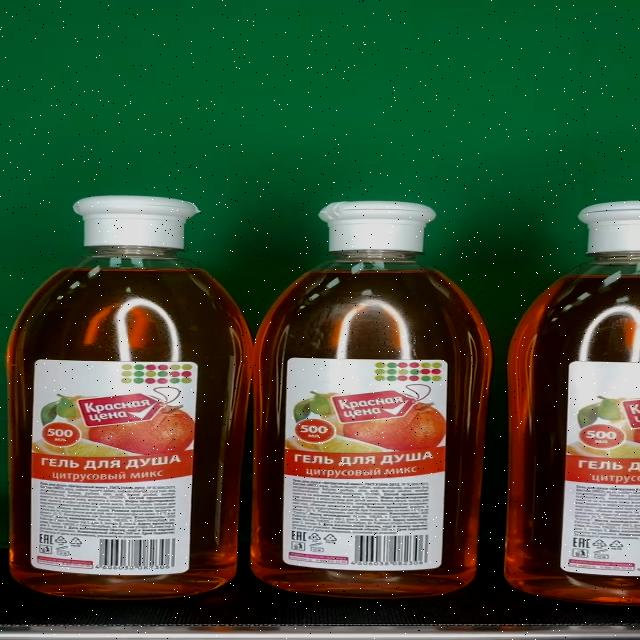Bottle: (7, 196, 255, 601), (252, 202, 492, 600)
Cap: (74, 196, 200, 249), (317, 202, 436, 252)
